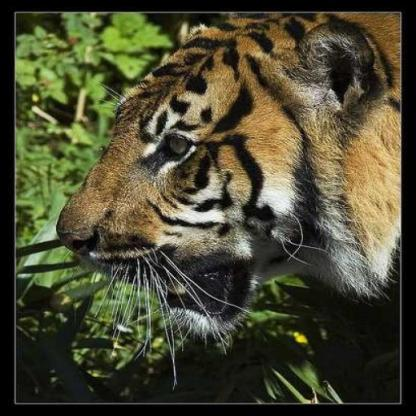Tiger: (43, 14, 403, 353)
